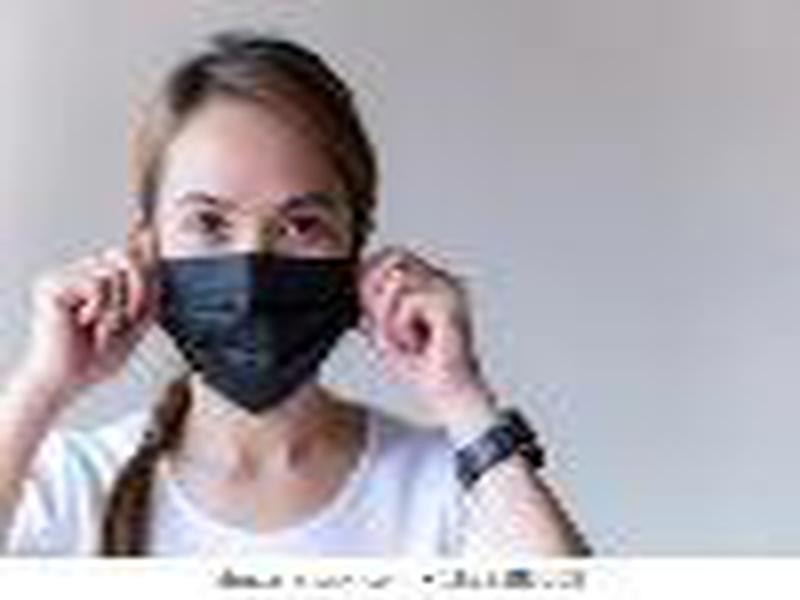with_mask: (154, 104, 362, 416)
